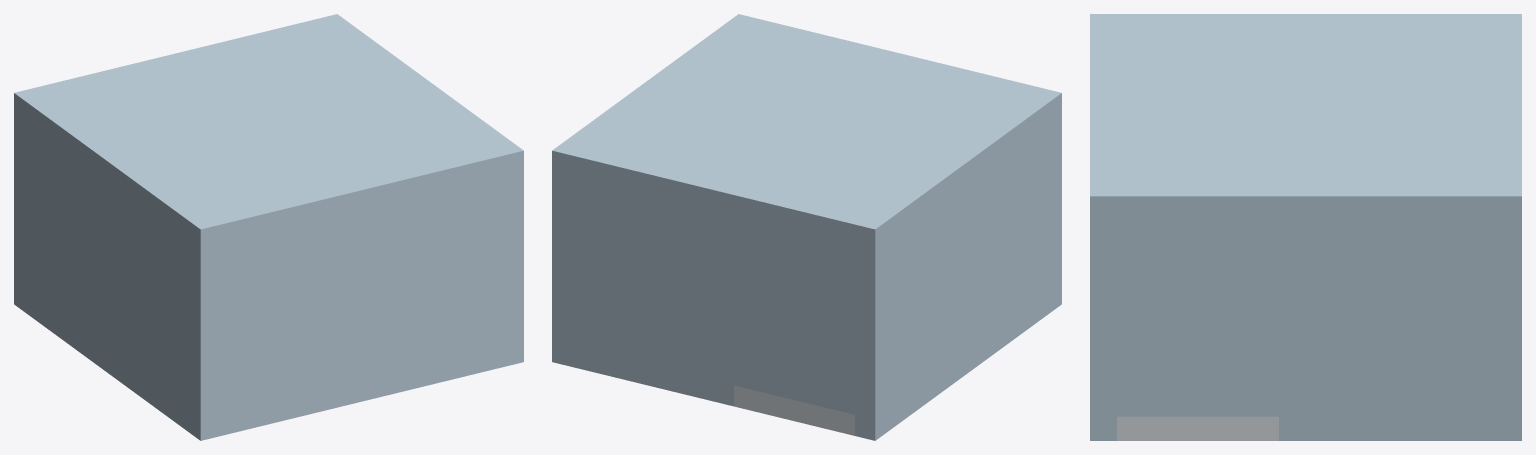
The model's file is ice-grotto-mirror.glb.
3 renders of one model, left to right at view 1: azimuth 30°, elevation 25°; view 2: azimuth 150°, elevation 25°; view 3: azimuth 270°, elevation 25°, orthographic. The views are drawn at different scales.
Visible parts, largest first — view 1: ice-rock_9, ice-rock_6, ice-rock_1, ice-rock_5; view 2: ice-rock_9, ice-rock_1, ice-rock_2, plug_ice_north, ice-rock_7, snow_1; view 3: ice-rock_9, ice-rock_4, plug_ice_east, ice-rock_3, ice-rock_8, ice-rock_2, ice-rock_6, snow_7.
Part boxes in pixels (bbox=[...]): ice-rock_9: bbox=[14, 14, 523, 250]; ice-rock_6: bbox=[261, 172, 523, 425]; ice-rock_1: bbox=[14, 114, 220, 440]; ice-rock_5: bbox=[221, 236, 261, 435]; ice-rock_9: bbox=[552, 14, 1061, 250]; ice-rock_1: bbox=[855, 114, 1061, 440]; ice-rock_2: bbox=[552, 172, 733, 406]; plug_ice_north: bbox=[734, 258, 854, 414]; ice-rock_7: bbox=[734, 216, 854, 287]; snow_1: bbox=[734, 385, 854, 435]; ice-rock_9: bbox=[1090, 14, 1521, 220]; ice-rock_4: bbox=[1279, 221, 1440, 440]; plug_ice_east: bbox=[1117, 269, 1278, 416]; ice-rock_3: bbox=[1441, 221, 1494, 440]; ice-rock_8: bbox=[1117, 221, 1278, 269]; ice-rock_2: bbox=[1495, 221, 1521, 440]; ice-rock_6: bbox=[1090, 221, 1116, 440]; snow_7: bbox=[1117, 416, 1278, 440].
Bounding box in the file's own units: 8 × 5 × 8.
